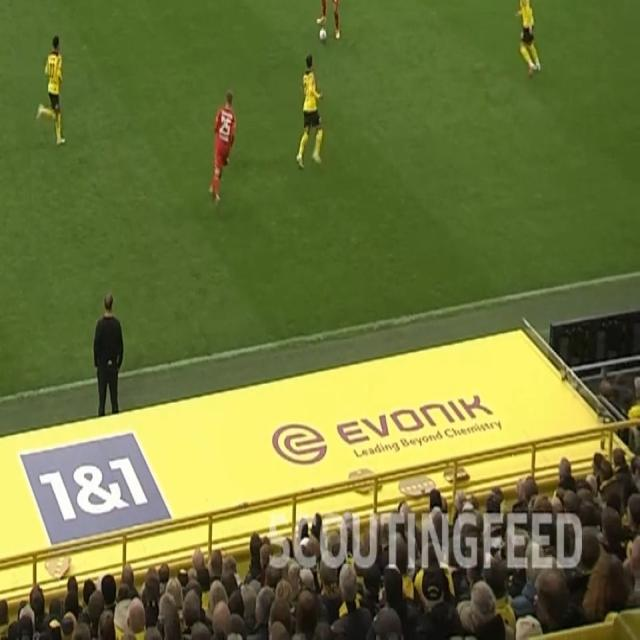ball: (317, 25, 328, 44)
